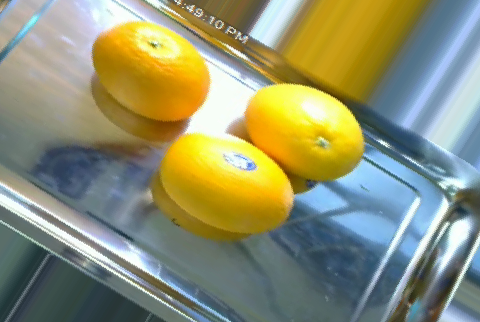Orange: (159, 132, 294, 233), (244, 83, 365, 181), (91, 22, 210, 121)
